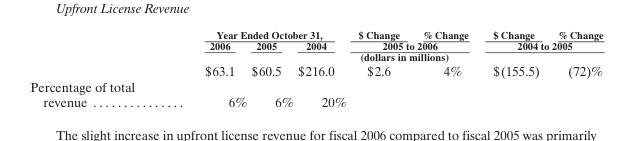table: (29, 28, 602, 109)
table column: (29, 28, 169, 109), (169, 28, 248, 109), (411, 28, 480, 109), (480, 28, 548, 109), (351, 28, 411, 109), (295, 28, 351, 109), (548, 28, 602, 109), (248, 28, 295, 109)
table column header: (29, 28, 602, 78)
table row: (29, 78, 602, 109), (29, 62, 602, 78), (29, 28, 602, 40), (29, 40, 602, 51), (29, 51, 602, 62)
table spanning cell: (169, 51, 602, 62), (169, 28, 351, 40), (351, 40, 480, 51), (480, 40, 602, 51)
